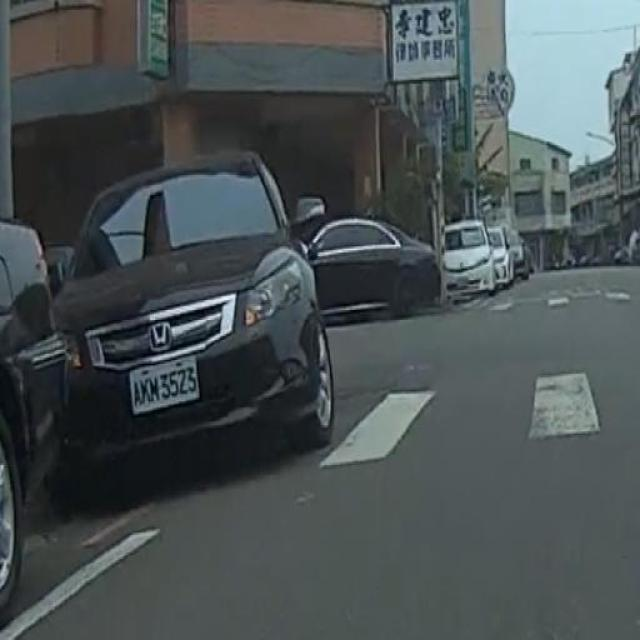illegalparking: (56, 151, 439, 472)
